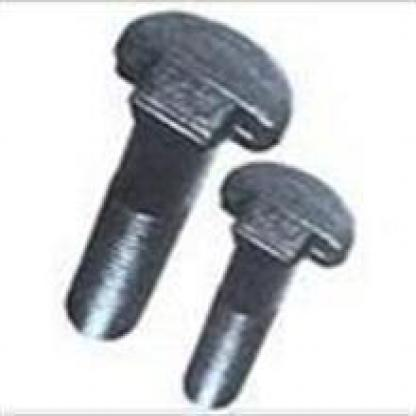FOD: (63, 12, 294, 341), (180, 162, 357, 412)
